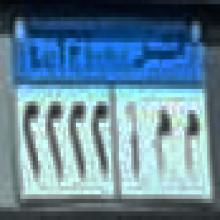2: (90, 100, 111, 181), (22, 99, 43, 177), (68, 98, 88, 176), (46, 101, 64, 178)
alif: (123, 102, 148, 179)
meem: (179, 100, 204, 174), (151, 104, 173, 178)
